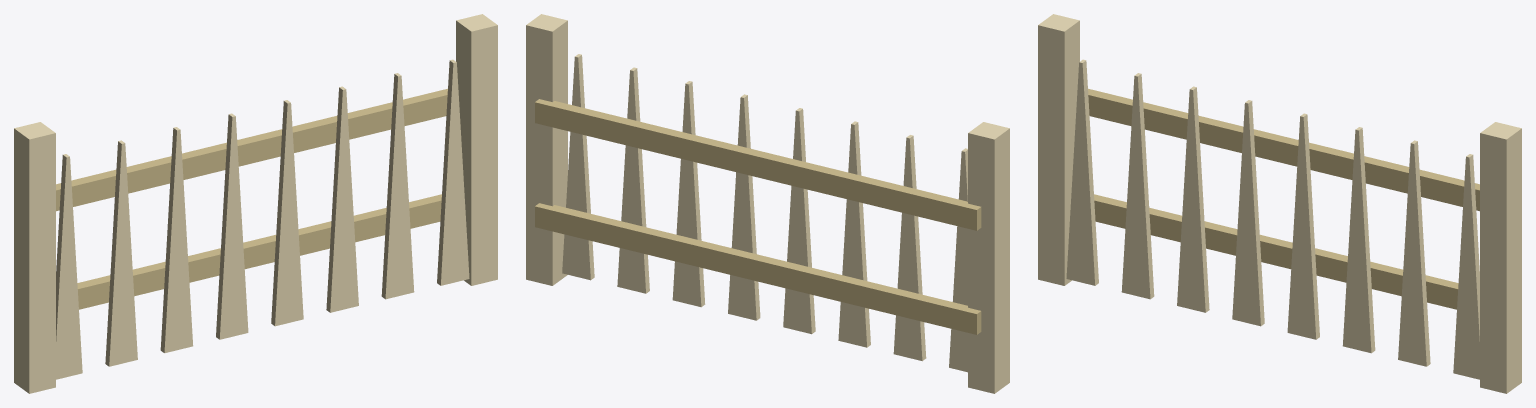
Rendered from fence_picket.glb.
3 views of the same model, side by side, from view 1: azimuth 30°, elevation 25°; view 2: azimuth 150°, elevation 25°; view 3: azimuth 330°, elevation 25° (orthographic).
Visible parts, largest first — view 1: fence_picket; view 2: fence_picket; view 3: fence_picket.
Part boxes in pixels (bbox=[...]): fence_picket: bbox=[14, 14, 497, 393]; fence_picket: bbox=[526, 14, 1009, 393]; fence_picket: bbox=[1038, 14, 1521, 393].
Size of what is drawn, in the model's own units: 2.12 by 1.1 by 0.155.
